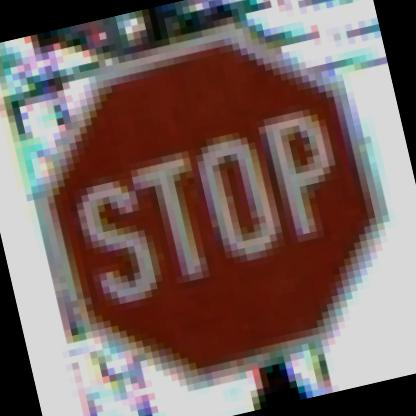stop: (8, 0, 415, 405)
